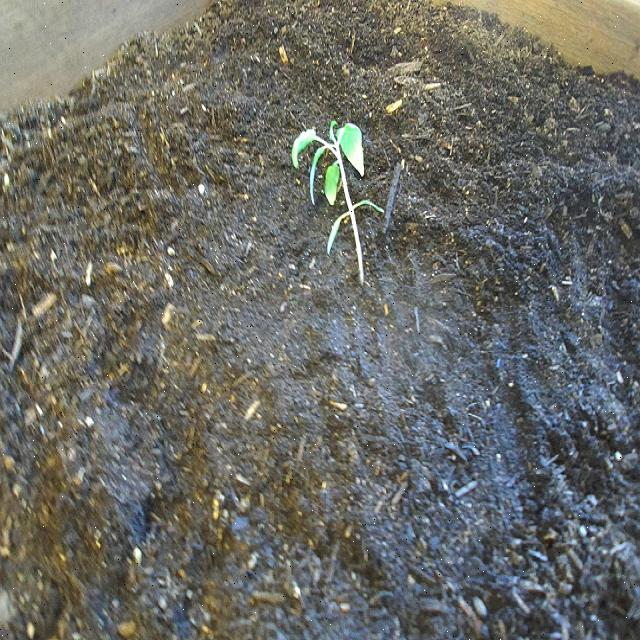Healthy: (284, 98, 402, 304)
